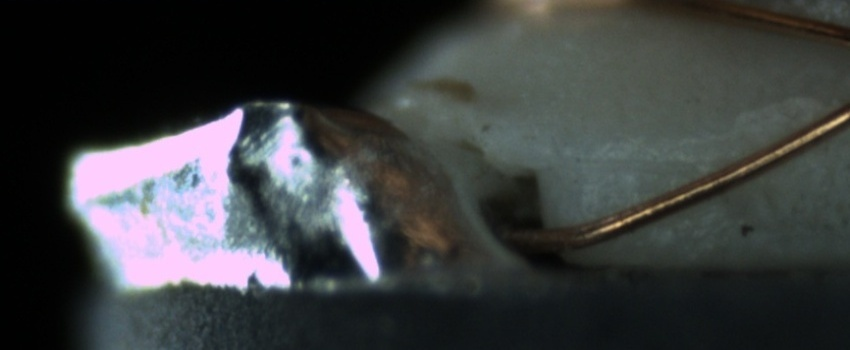DL: (568, 128, 726, 191)
